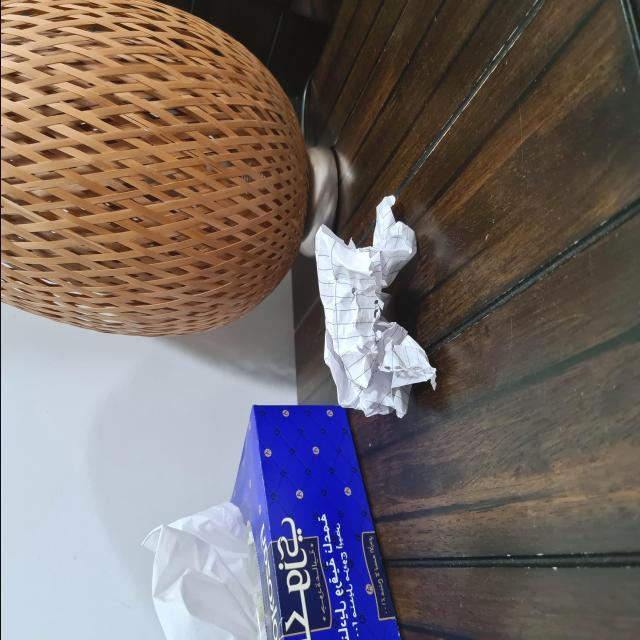Paper: (304, 184, 444, 422)
